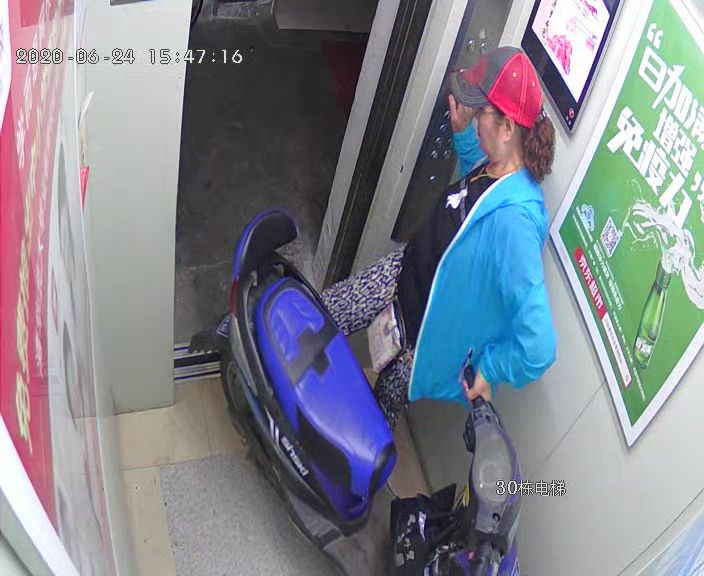Electric-bicycle: (223, 209, 521, 571)
